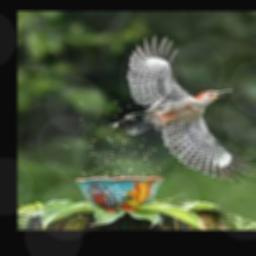Woodpecker: (117, 36, 256, 181)
